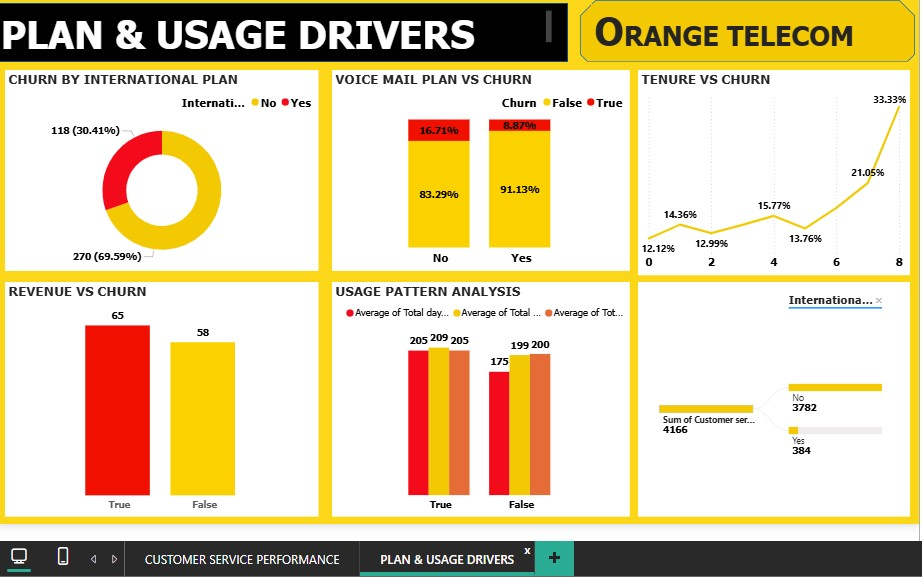

Layout of this report page (visuals, bound fields, positions):
{"tool":"powerbi","page":{"name":"PLAN & USAGE DRIVERS","canvas":[1285,731],"ordinal":1},"visuals":[{"type":"shape","box":[0,4.2,795.8,82.2],"z":0},{"type":"textbox","box":[0,9.8,777.7,69.7],"z":1000},{"type":"hundredPercentStackedColumnChart","title":"VOICE MAIL PLAN VS CHURN ","fields":{"Y":["Measure.Total Customers"],"Series":["Orange Telecom's Churn.Churn"],"Category":["Orange Telecom's Churn.Voice mail plan"]},"box":[466.8,96.9,415.4,280.4],"z":2000},{"type":"clusteredColumnChart","title":"USAGE PATTERN ANALYSIS","fields":{"Category":["Orange Telecom's Churn.Churn"],"Y":["Avg(Orange Telecom's Churn.Total day minutes)","Avg(Orange Telecom's Churn.Total eve minutes)","Avg(Orange Telecom's Churn.Total night minutes)"]},"box":[466.8,393.4,415.4,327.3],"z":3000},{"type":"donutChart","title":"CHURN BY INTERNATIONAL PLAN","fields":{"Category":["Orange Telecom's Churn.International plan"],"Y":["Measure.Total Customers"],"Series":["Orange Telecom's Churn.Churn"]},"box":[11.7,96.9,437.4,280.4],"z":4000},{"type":"clusteredColumnChart","title":"REVENUE VS CHURN","fields":{"Category":["Orange Telecom's Churn.Churn"],"Y":["Avg(Orange Telecom's Churn.Total Charge)"]},"box":[11.7,393.4,437.4,327.3],"z":5000},{"type":"lineChart","title":"TENURE VS CHURN","fields":{"Y":["Measure.Churn Rate"],"Category":["Orange Telecom's Churn.Tenure Month"]},"box":[893.9,96.9,378.7,286.2],"z":6000},{"type":"decompositionTreeVisual","fields":{"Analyze":["Sum(Orange Telecom's Churn.Customer service calls)"],"ExplainBy":["Orange Telecom's Churn.International plan"]},"box":[893.9,393.4,378.7,327.3],"z":7000},{"type":"shape","box":[812.5,0,466.9,86.4],"z":8000},{"type":"textbox","box":[827.9,5.6,432,73.9],"z":9000}]}

Visuals, with their boxes on the page's 1285x731 design canvas (x1, y1, x2, y2). These are canvas units, not pixel positions in the 922x577 screenshot, which may show the page scaled, cropped or inside an application window:
shape: crop(0, 4, 796, 86)
textbox: crop(0, 10, 778, 80)
"VOICE MAIL PLAN VS CHURN " hundredPercentStackedColumnChart: crop(467, 97, 882, 377)
"USAGE PATTERN ANALYSIS" clusteredColumnChart: crop(467, 393, 882, 721)
"CHURN BY INTERNATIONAL PLAN" donutChart: crop(12, 97, 449, 377)
"REVENUE VS CHURN" clusteredColumnChart: crop(12, 393, 449, 721)
"TENURE VS CHURN" lineChart: crop(894, 97, 1273, 383)
decompositionTreeVisual - Sum(Orange Telecom's Churn.Customer service calls) x Orange Telecom's Churn.International plan: crop(894, 393, 1273, 721)
shape: crop(812, 0, 1279, 86)
textbox: crop(828, 6, 1260, 80)
